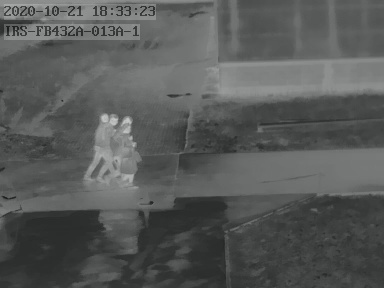person: (114, 116, 139, 185), (87, 115, 110, 180)
